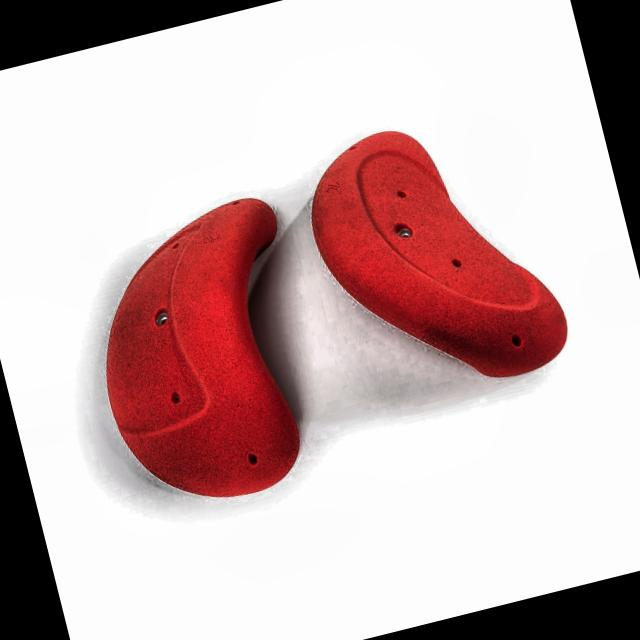Hold: (303, 112, 597, 398), (86, 191, 324, 509)
